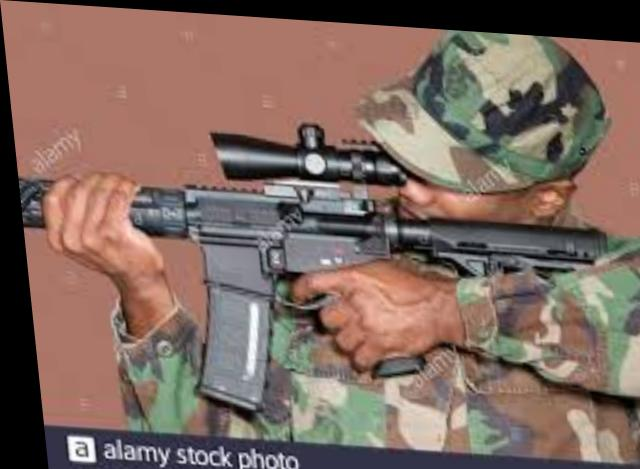other: (133, 52, 640, 460)
